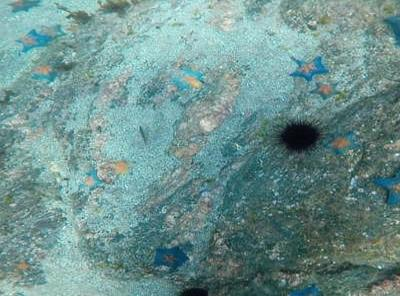urchin: (280, 118, 319, 154)
